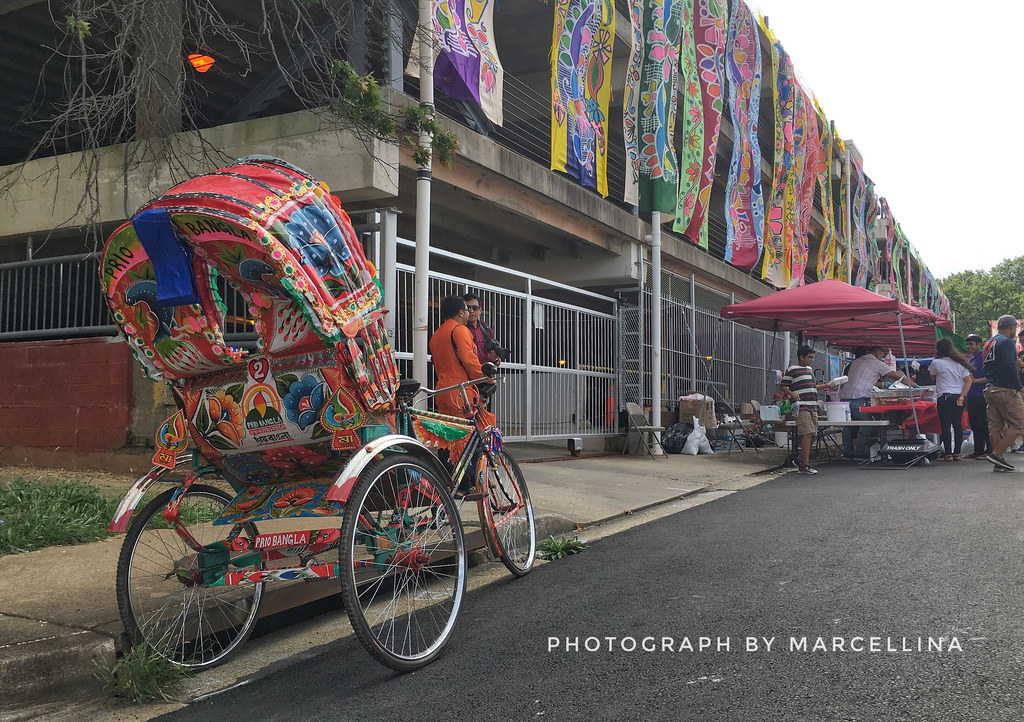Rickshaw: (94, 153, 555, 668)
